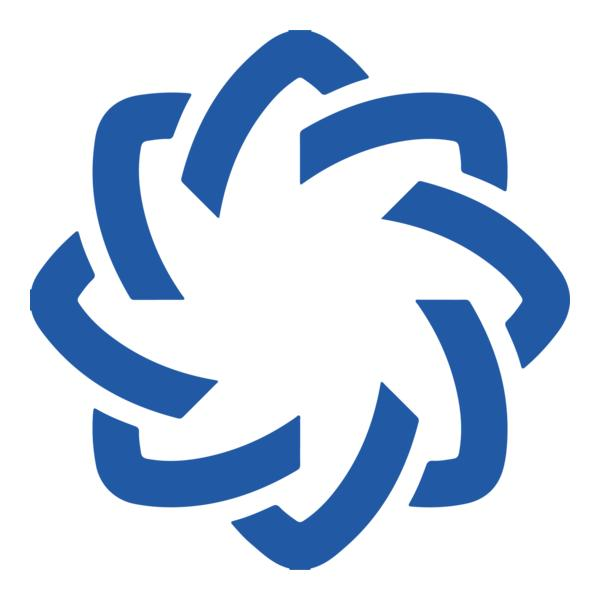ABB: (22, 27, 571, 575)
